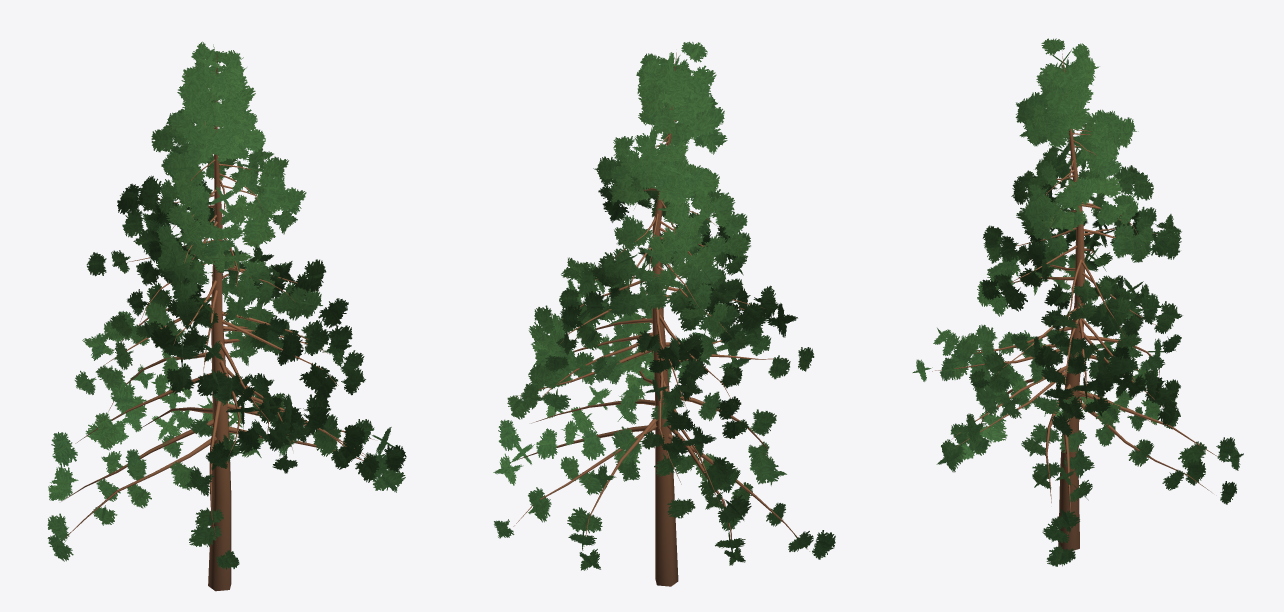
Rendered from pino.glb.
3 renders of one model, left to right at view 1: azimuth 30°, elevation 25°; view 2: azimuth 150°, elevation 25°; view 3: azimuth 270°, elevation 25°, orthographic. The views are drawn at different scales.
Parts seen in each view (by area): view 1: pino; view 2: pino; view 3: pino.
Boxes of the visible parts, x1,y1,x2,y2 form: pino: [47, 41, 406, 591]; pino: [493, 41, 835, 586]; pino: [912, 38, 1243, 566].
Bounding box in the file's own units: 11.67 × 16 × 10.5.
2 materials, 1 textured.
